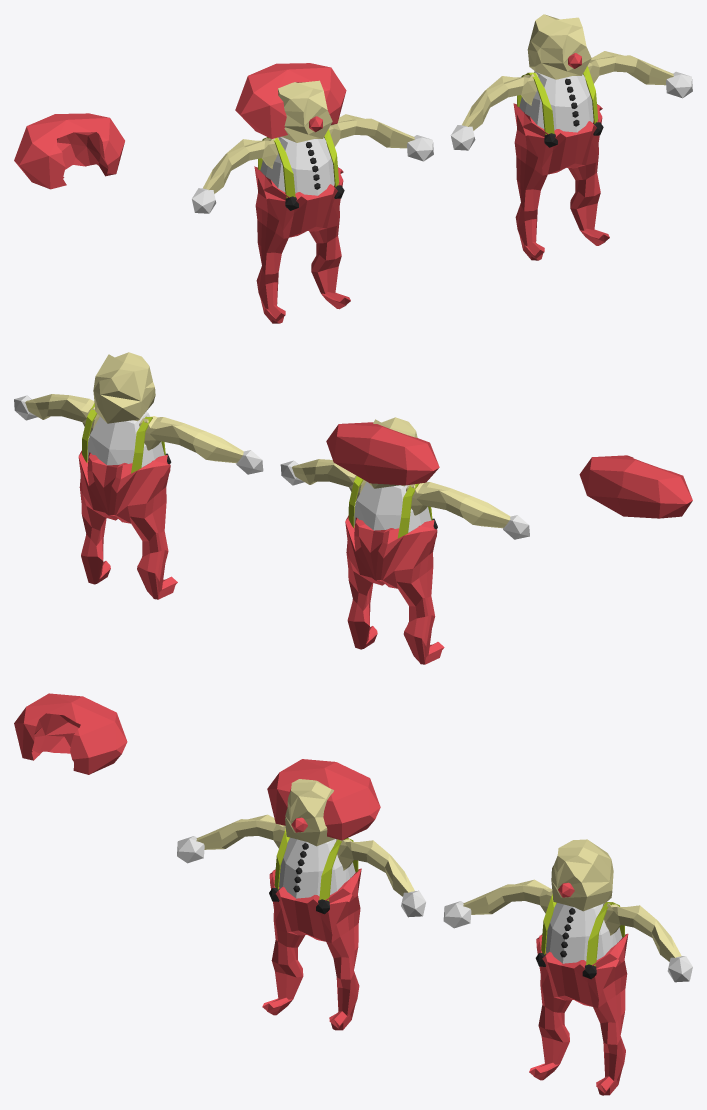
File: the main character.fbx
3 views of the same model, one above another, from view 1: azimuth 30°, elevation 25°; view 2: azimuth 150°, elevation 25°; view 3: azimuth 330°, elevation 25° (orthographic). The views are drawn at different scales.
Visible parts, largest first — view 1: Cube.005, Cube.001, Cube.000; view 2: Cube.005, Cube.001, Cube.000; view 3: Cube.005, Cube.001, Cube.000.
Part boxes in pixels (left/top/right/bottom): Cube.005: left=192, top=63, right=433, bottom=323; Cube.001: left=450, top=14, right=692, bottom=260; Cube.000: left=14, top=113, right=124, bottom=189; Cube.005: left=280, top=417, right=529, bottom=664; Cube.001: left=14, top=352, right=263, bottom=599; Cube.000: left=579, top=455, right=692, bottom=518; Cube.005: left=177, top=759, right=425, bottom=1030; Cube.001: left=443, top=839, right=692, bottom=1095; Cube.000: left=14, top=693, right=127, bottom=774.
Bounding box in the file's own units: 3920 × 1394 × 481.
